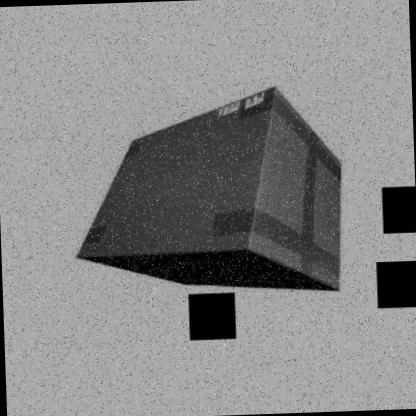box: (69, 78, 352, 310)
